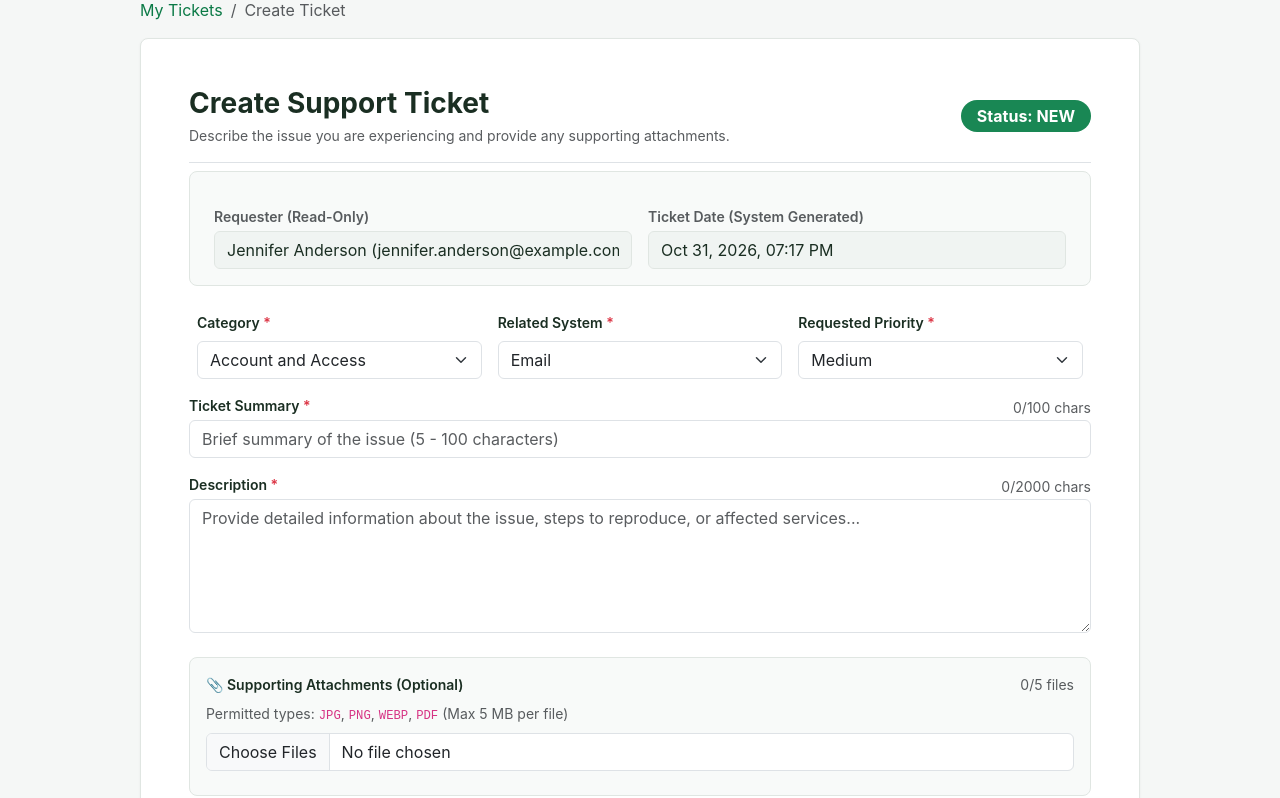
Test case: CreateTicket Component › submits valid ticket and displays official Ticket Number in success banner
The image size is (1280, 798).
// Fill form
Type "Laptop battery draining fast" into the field with placeholder "Brief summary of the issue (5 - 100 characters)". click: (640, 439)
box: [189, 420, 1091, 458]
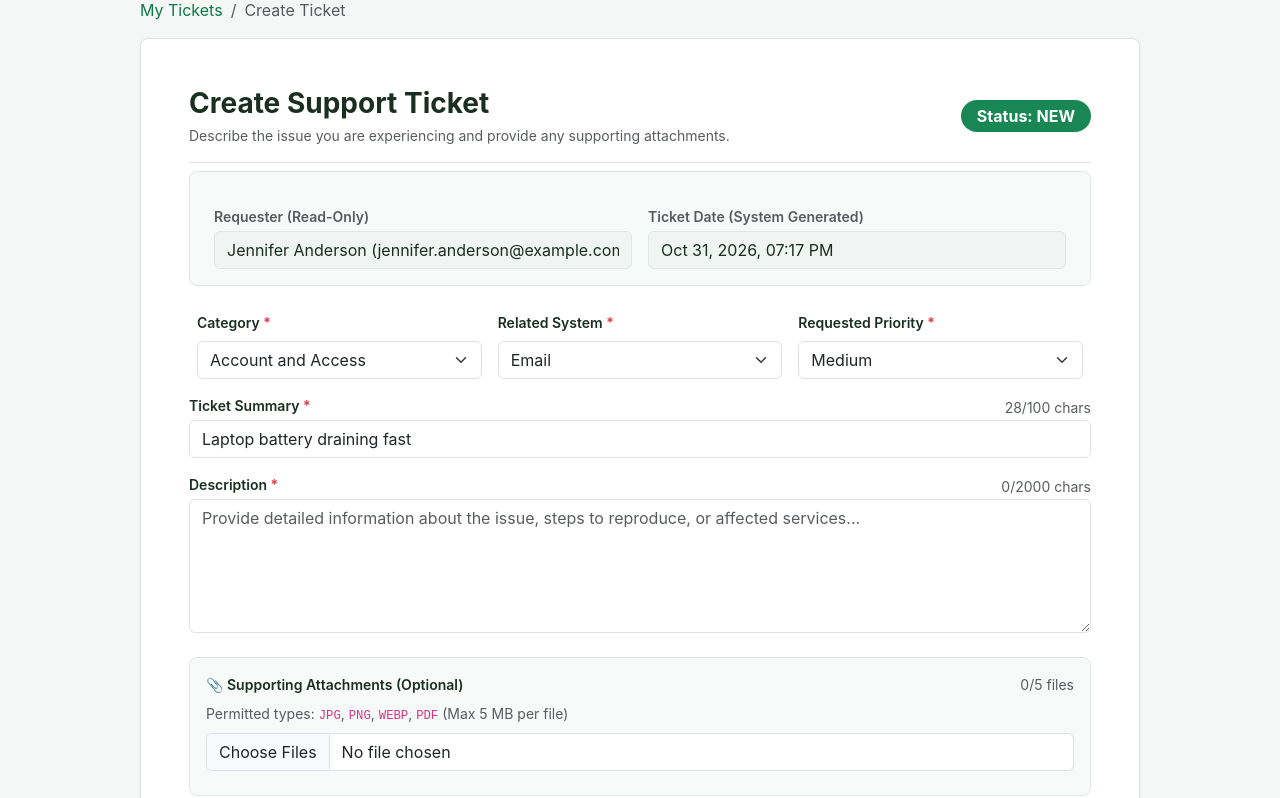
Replace the text in the text box with placeholder "Provide detailed information" with "Battery discharges from 100% to 10% in under an hour.". click: (640, 566)
box: [189, 499, 1091, 633]
(page scrolled)
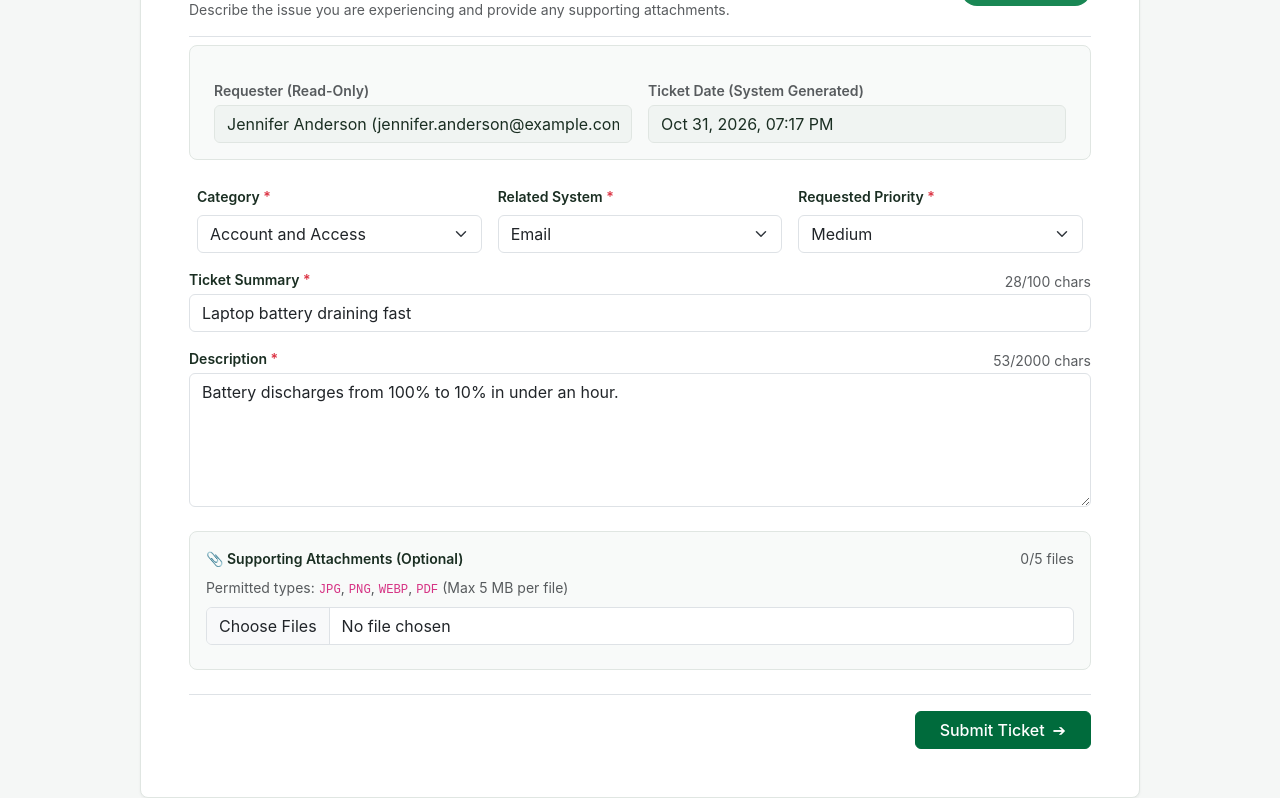
Click the button "Submit Ticket ➔". click: (1003, 730)
box: [915, 711, 1091, 749]
(page scrolled)
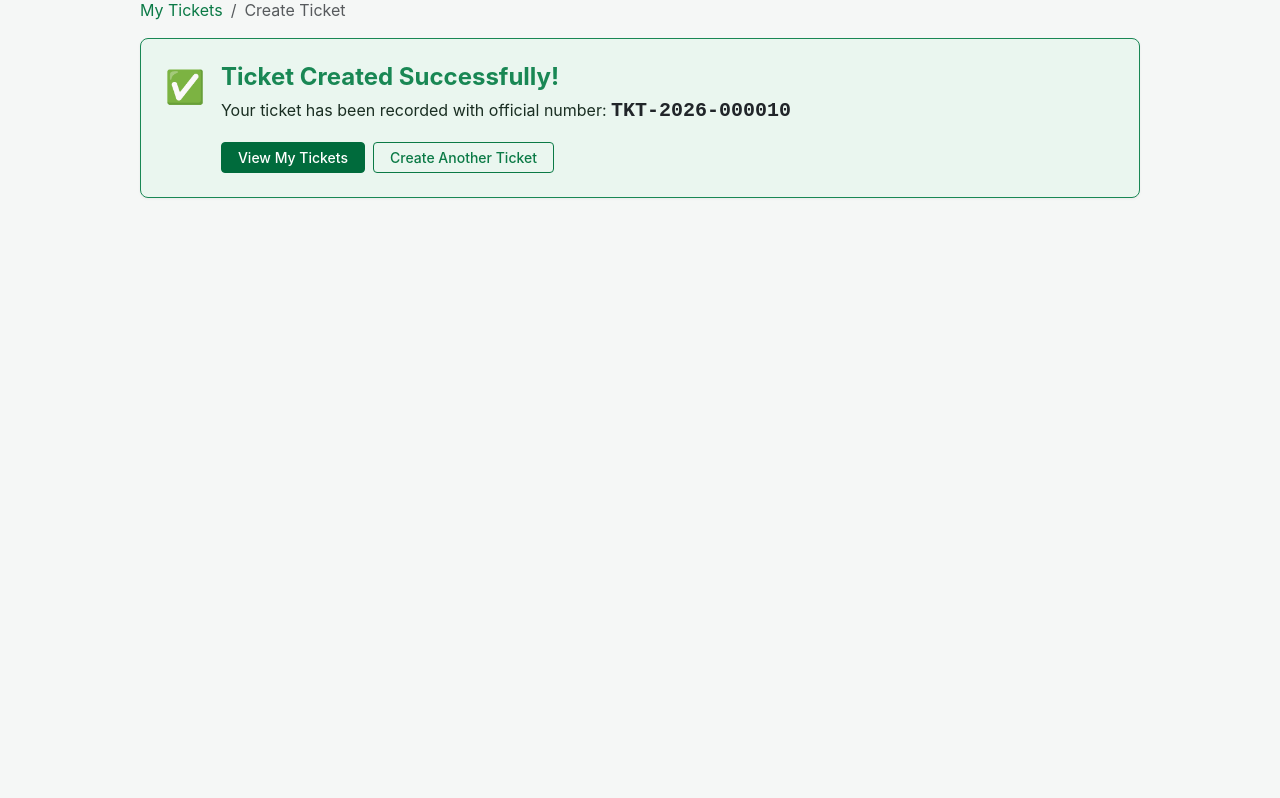
Now the heading "Ticket Created Successfully!" is shown, box [221, 62, 559, 91]
Now the text "TKT-2026-000010" is shown, box [611, 99, 791, 122]
